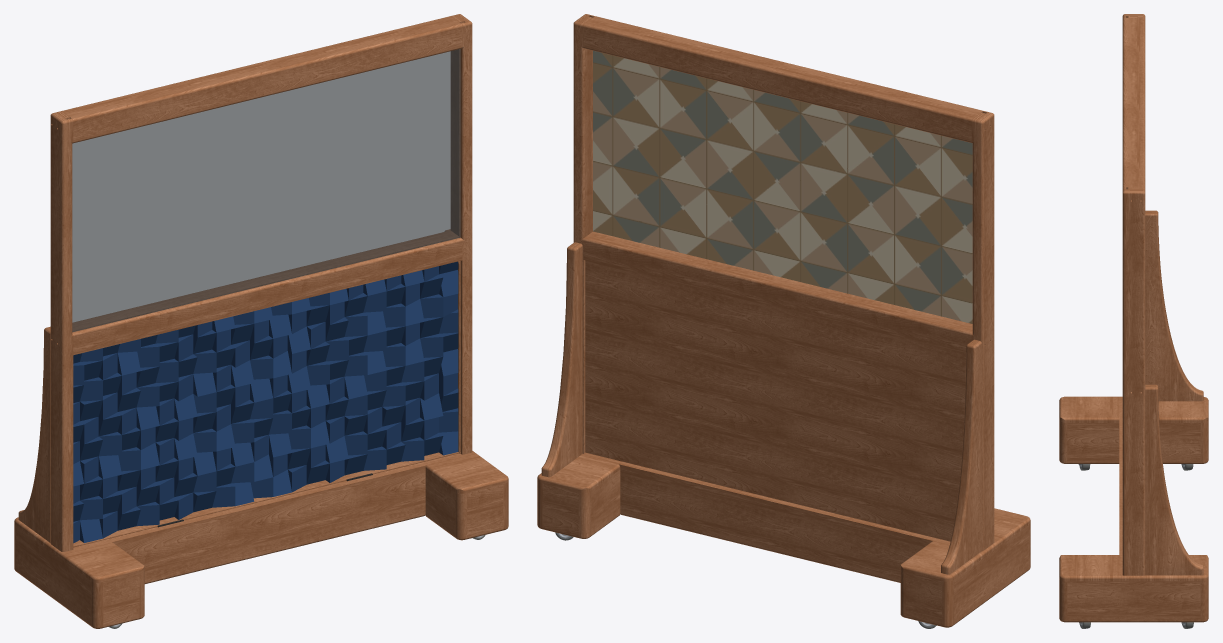
File: v10-linen-marquetry-cognac-one.glb
3 renders of one model, left to right at view 1: azimuth 30°, elevation 25°; view 2: azimuth 150°, elevation 25°; view 3: azimuth 270°, elevation 25°, orthographic. The views are drawn at different scales.
Parts seen in each view (by area): view 1: Wood, Linen Marquetry reverse, Navy Everwood relief; view 2: Wood, Linen Marquetry print; view 3: Wood, Nonmarking rubber.
Part boxes in pixels (x1=…): Wood: x1=14, y1=14, x2=508, y2=628; Linen Marquetry reverse: x1=72, y1=49, x2=460, y2=331; Navy Everwood relief: x1=73, y1=261, x2=458, y2=543; Wood: x1=537, y1=14, x2=1030, y2=627; Linen Marquetry print: x1=593, y1=50, x2=972, y2=323; Wood: x1=1059, y1=14, x2=1208, y2=622; Nonmarking rubber: x1=1079, y1=464, x2=1193, y2=628.
Size of the model in its own units: 1.68 by 1.91 by 0.5842.
Materials: 10 (2 with a texture image).
